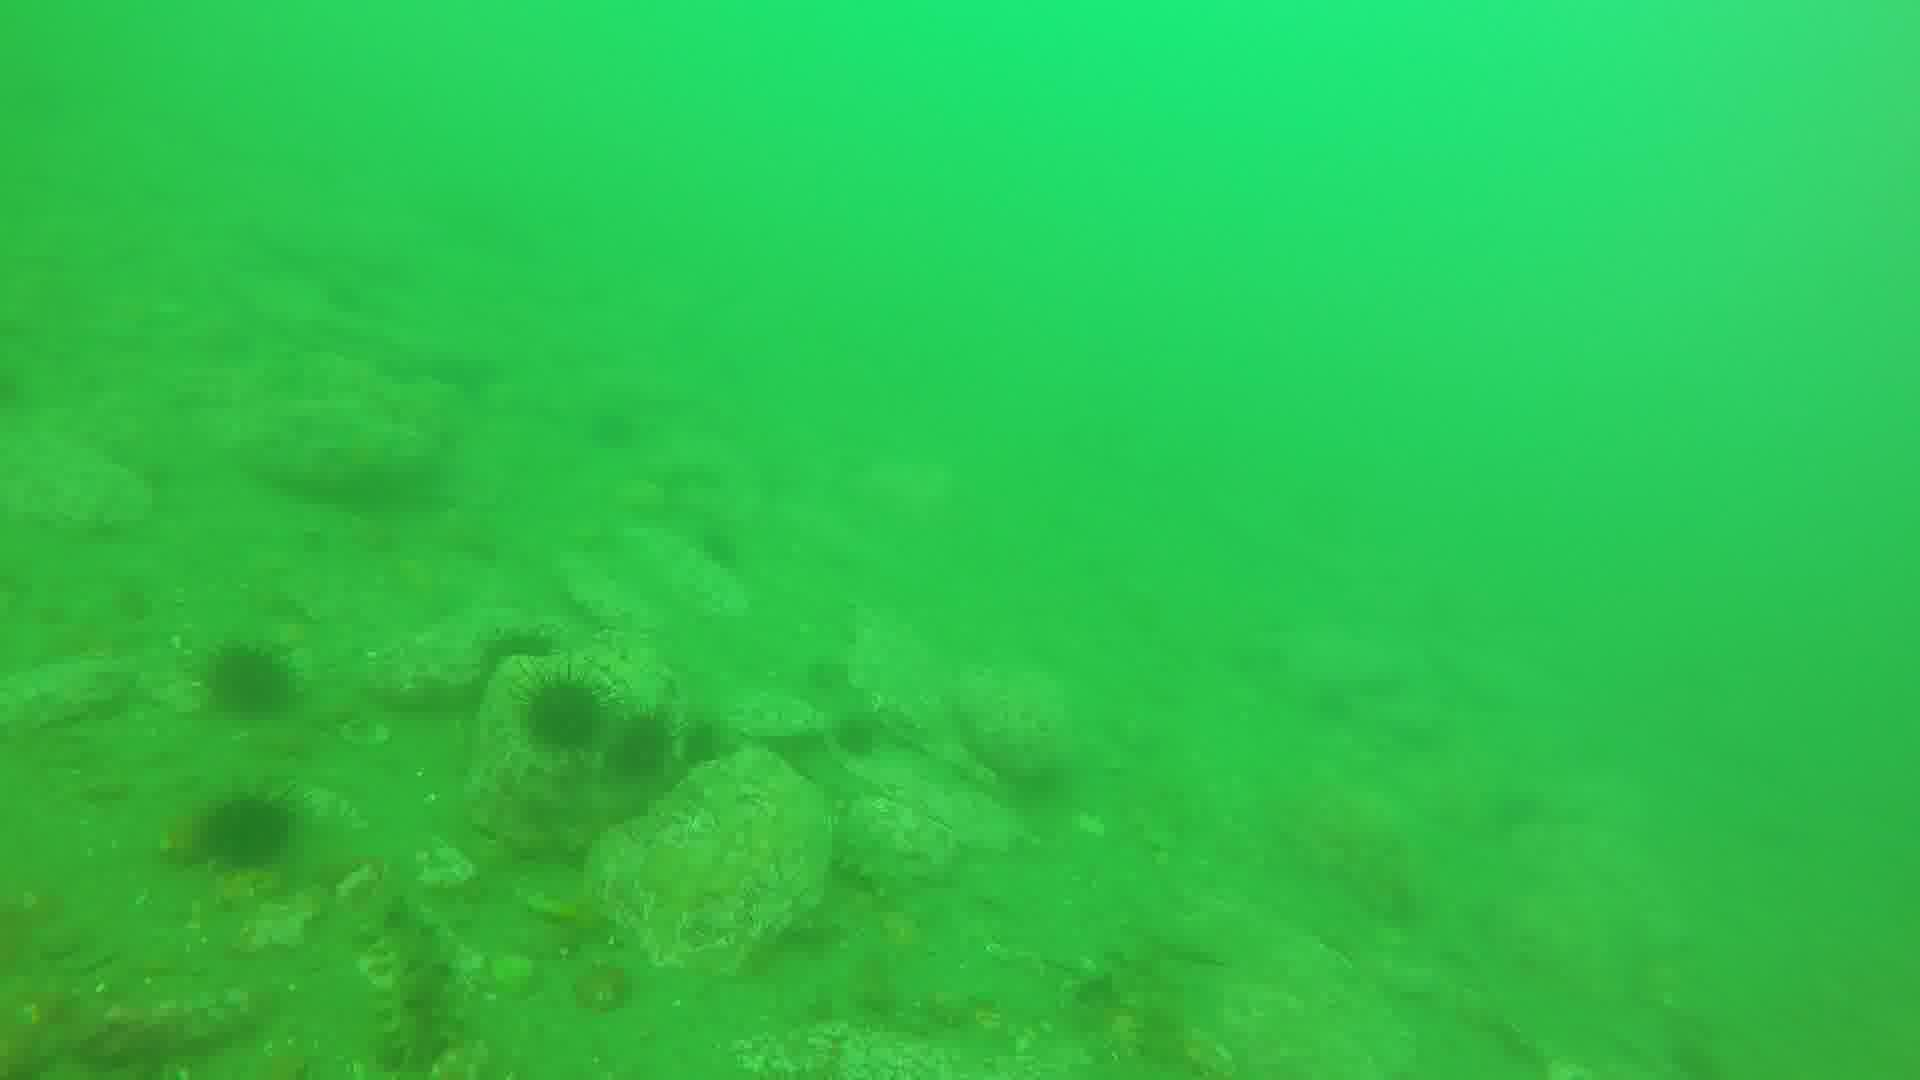echinus: (199, 789, 302, 870), (524, 665, 608, 754), (212, 644, 291, 716), (618, 712, 676, 775)
holothurian: (364, 894, 462, 1079)
